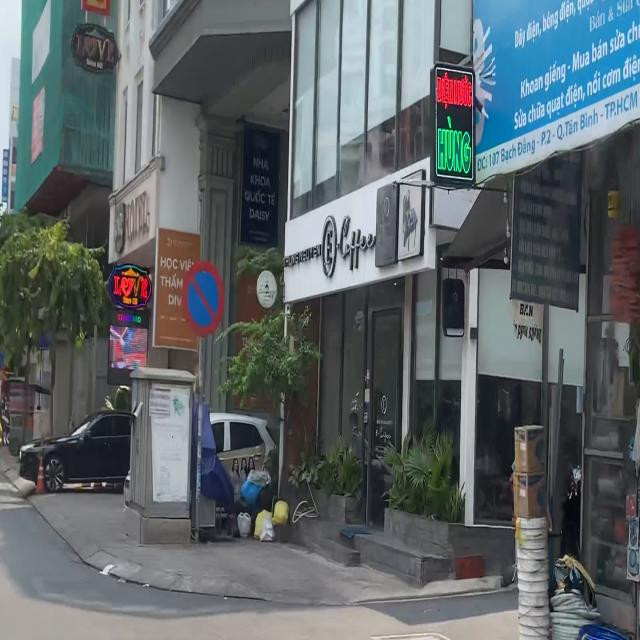Cam do: (183, 258, 226, 338)
